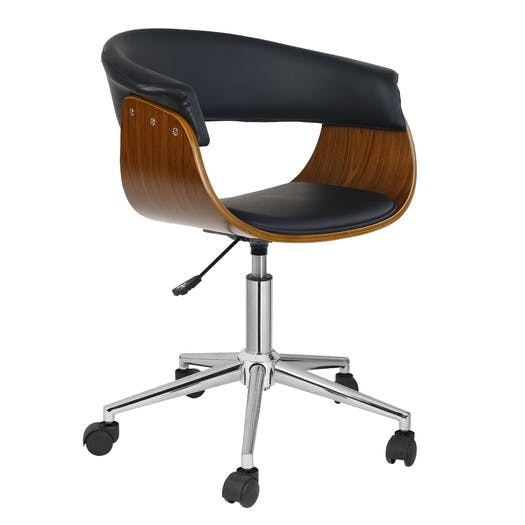chairs: (63, 22, 427, 518)
